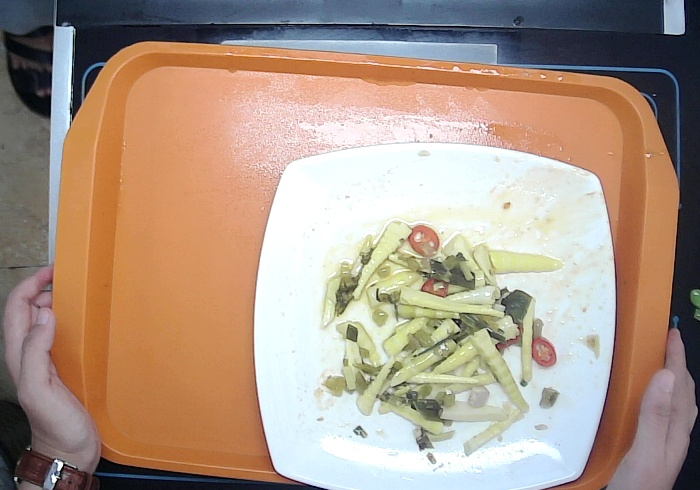ZNLD-Bai_Fang_Pan: (249, 137, 619, 490)
